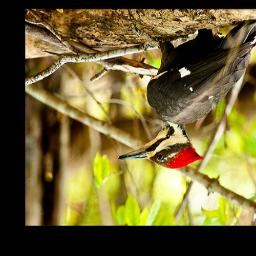Woodpecker: (116, 19, 256, 168)
